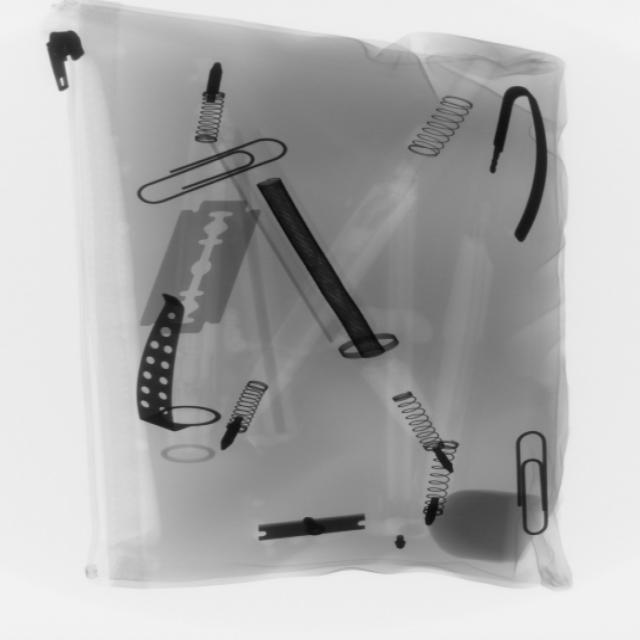BLADE: (145, 189, 261, 347)
